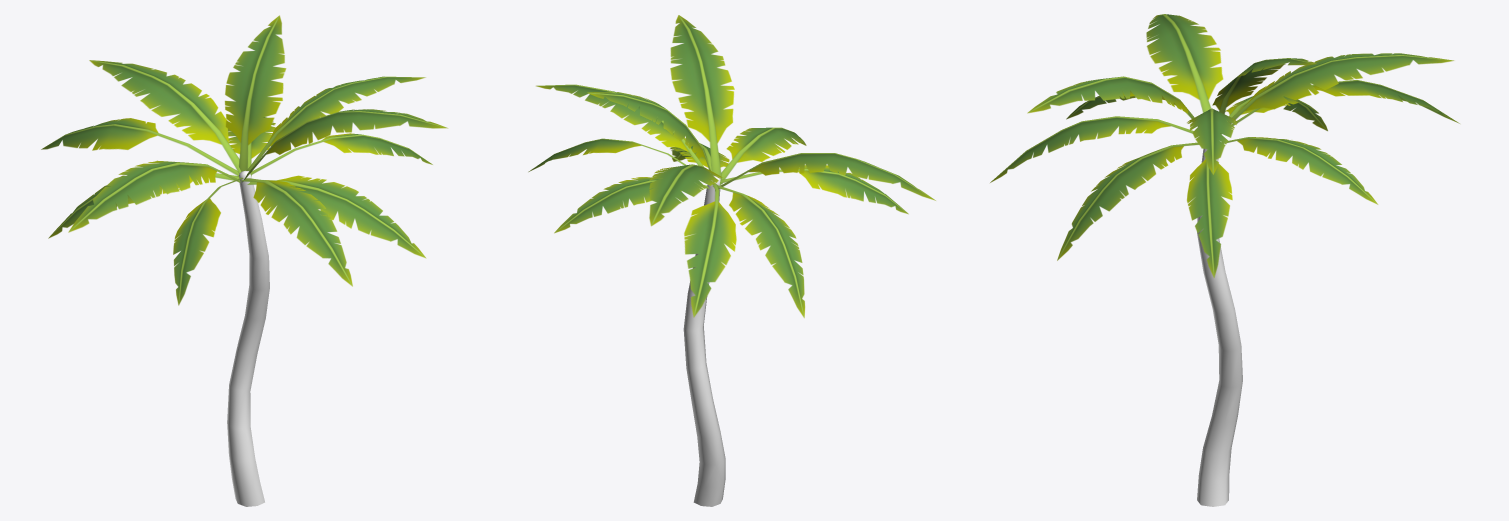
Rendered from palm_tree_1.glb.
The picture shows the model from 3 angles, left to right: view 1: azimuth 30°, elevation 25°; view 2: azimuth 150°, elevation 25°; view 3: azimuth 270°, elevation 25°; orthographic projection. The views are drawn at different scales.
Parts seen in each view (by area): view 1: PalmTree_1.001; view 2: PalmTree_1.001; view 3: PalmTree_1.001.
Boxes of the visible parts, x1=… form: PalmTree_1.001: x1=41, y1=15, x2=448, y2=506; PalmTree_1.001: x1=528, y1=15, x2=935, y2=506; PalmTree_1.001: x1=990, y1=14, x2=1459, y2=506.
Size of the model in its own units: 5.09 by 5.1 by 4.95.
Materials: 2 (1 with a texture image).
